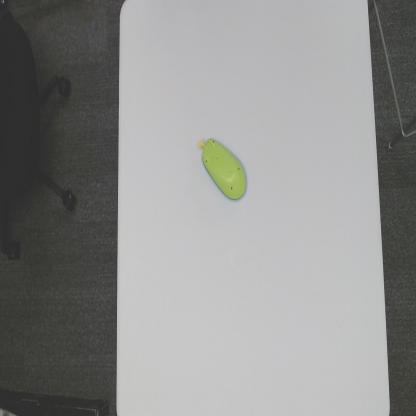Boat: (192, 126, 251, 207)
